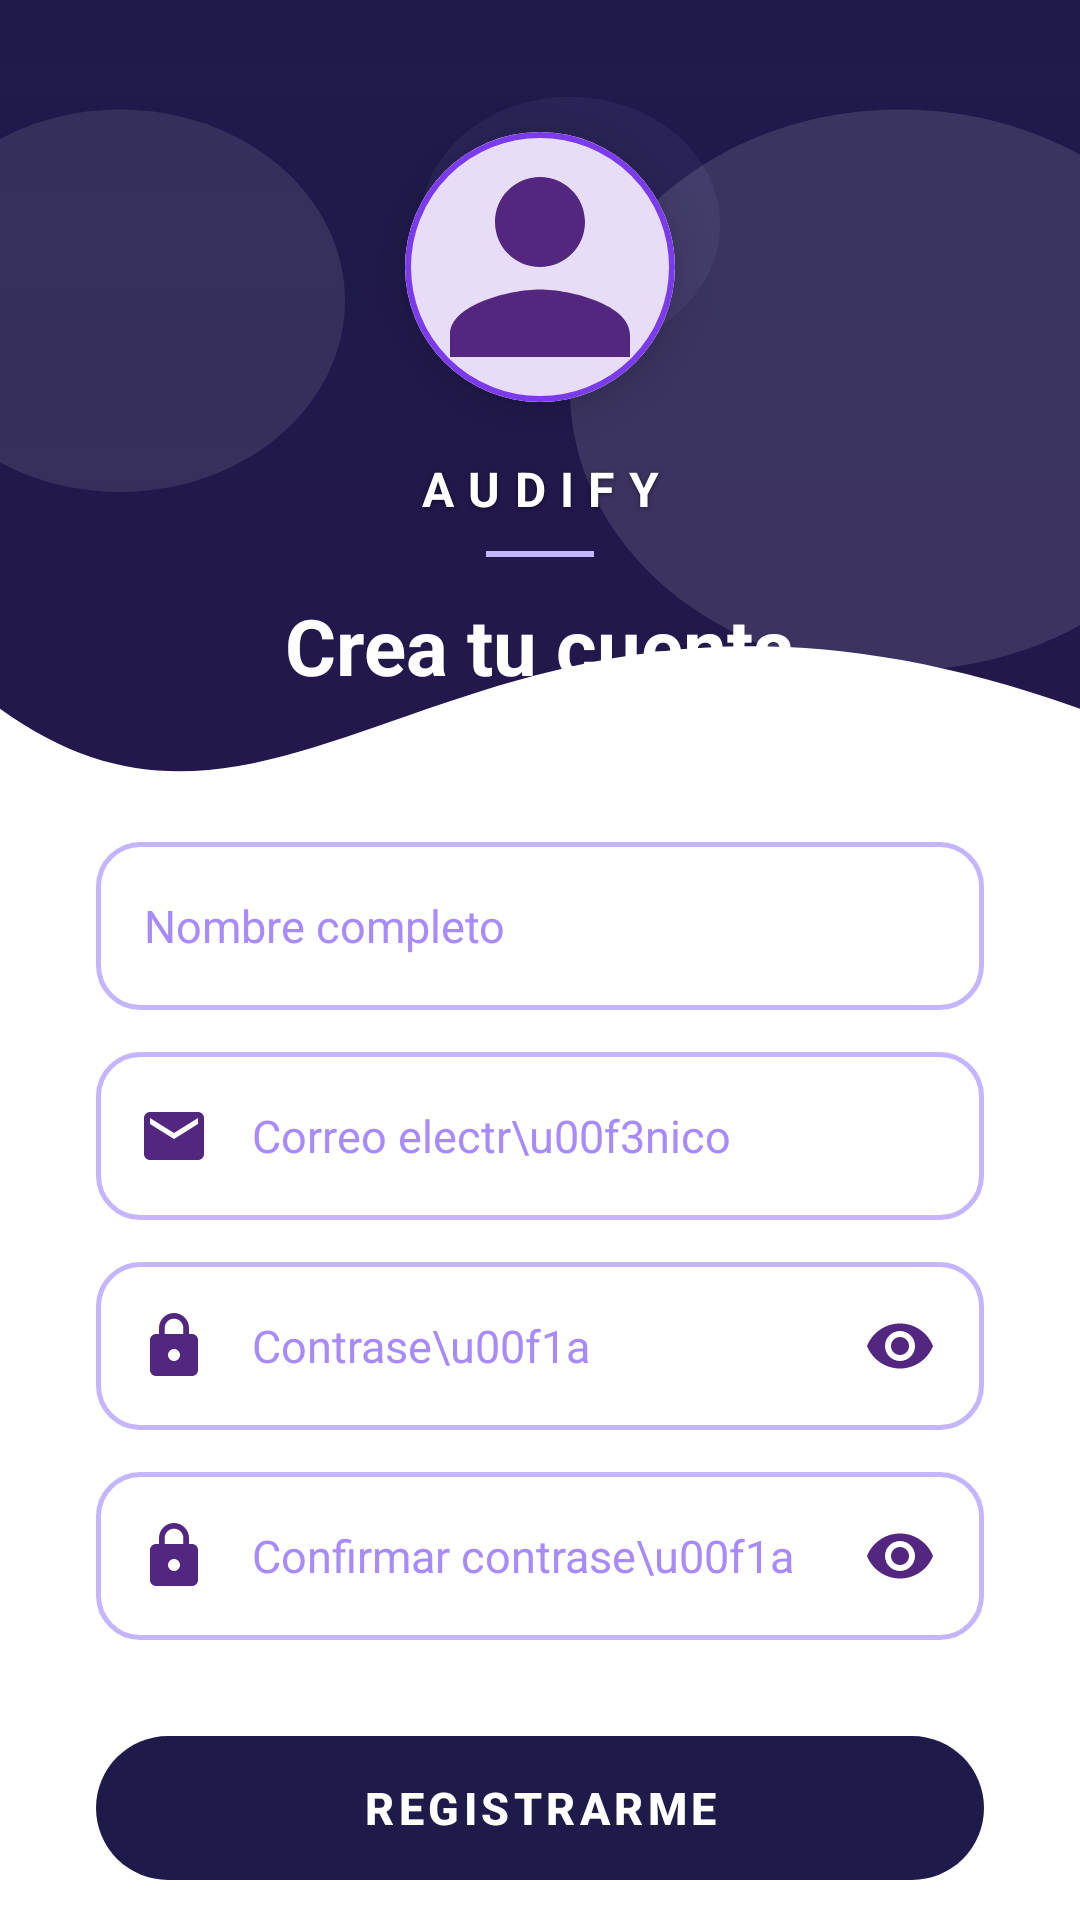

Icons on this 1080×1920 Android screen, each with the point to tap as [x,y]:
user: [540,267]
visibility: [900,1346], [900,1556]
